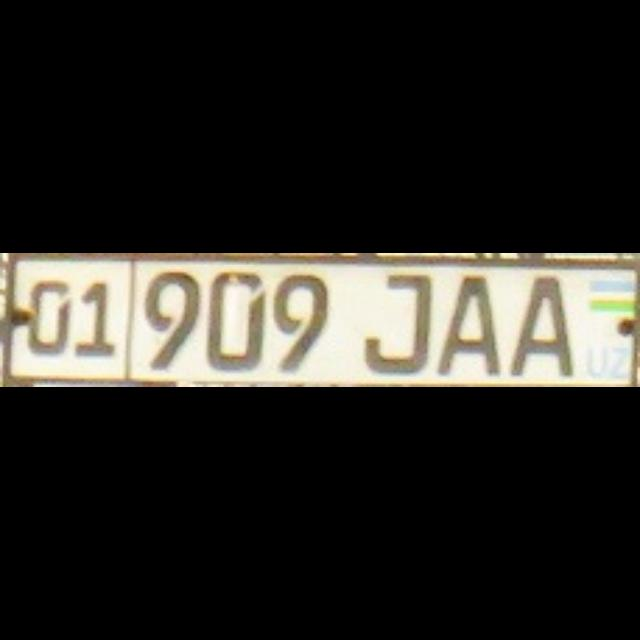0: (202, 266, 260, 368), (22, 276, 68, 350)
1: (66, 276, 112, 350)
9: (140, 267, 196, 365), (268, 270, 324, 368)
A: (433, 270, 497, 372), (507, 272, 568, 373)
J: (360, 268, 428, 370)
